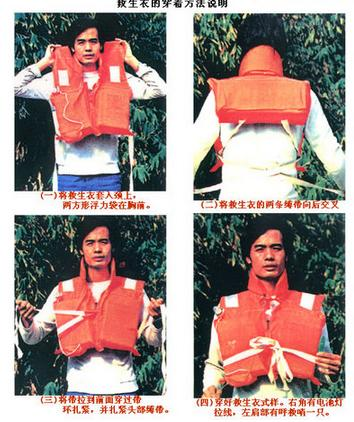reflective_clothes: (217, 265, 329, 394), (208, 47, 310, 161), (52, 255, 146, 371), (51, 42, 132, 156)
